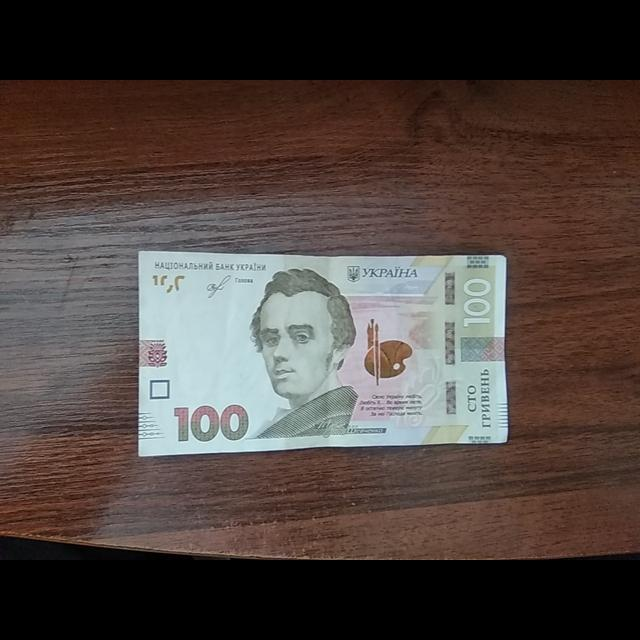100uah: (138, 252, 504, 443)
